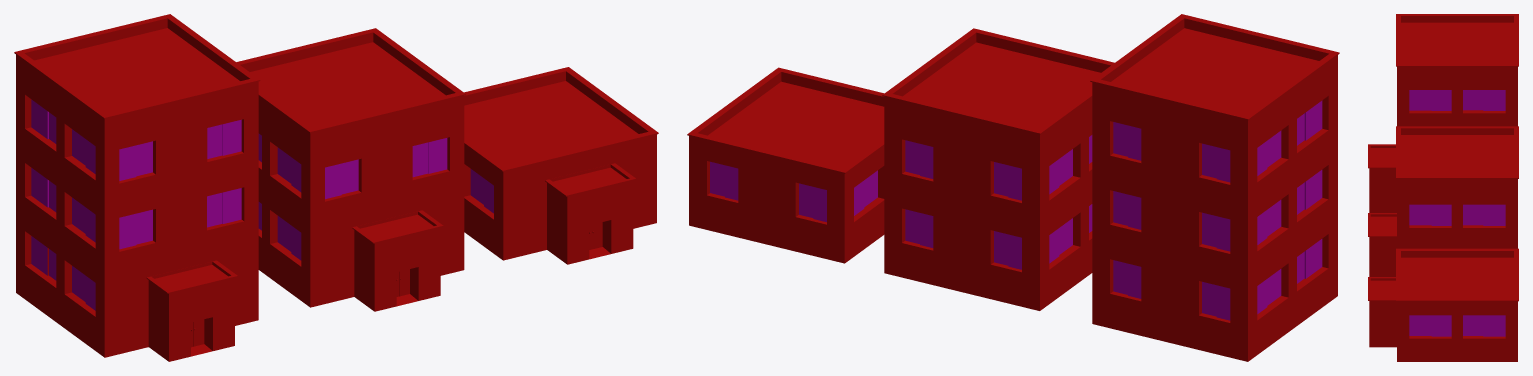
The model's file is Buildings.fbx.
3 renders of one model, left to right at view 1: azimuth 30°, elevation 25°; view 2: azimuth 150°, elevation 25°; view 3: azimuth 270°, elevation 25°, orthographic. The views are drawn at different scales.
Parts seen in each view (by area): view 1: polySurface38, polySurface39, polySurface40; view 2: polySurface38, polySurface39, polySurface40; view 3: polySurface39, polySurface40, polySurface38.
Boxes of the visible parts, x1=… form: polySurface38: x1=14, y1=14, x2=260, y2=361; polySurface39: x1=236, y1=28, x2=465, y2=311; polySurface40: x1=464, y1=67, x2=658, y2=264; polySurface38: x1=1090, y1=14, x2=1339, y2=361; polySurface39: x1=882, y1=28, x2=1114, y2=310; polySurface40: x1=687, y1=67, x2=884, y2=263; polySurface39: x1=1368, y1=126, x2=1518, y2=276; polySurface40: x1=1368, y1=248, x2=1518, y2=361; polySurface38: x1=1368, y1=14, x2=1518, y2=212.
Size of the model in its own units: 3793 by 1572 by 1311.
